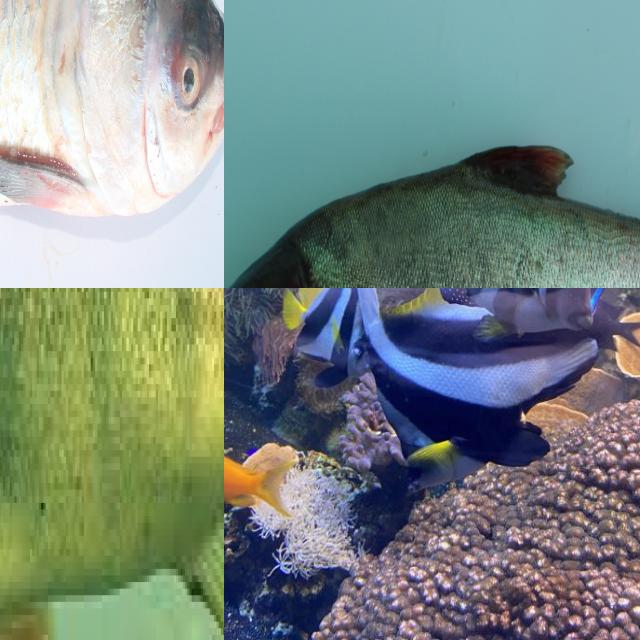fish: (224, 116, 640, 288), (0, 0, 224, 288)
